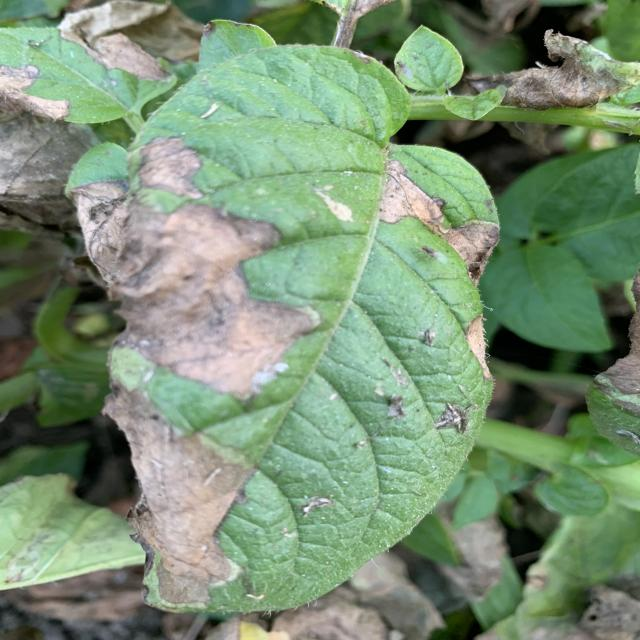lateblight: (68, 145, 320, 400), (103, 380, 255, 606), (378, 161, 498, 285), (472, 30, 640, 110), (58, 0, 203, 80), (593, 274, 640, 414), (137, 138, 203, 200), (0, 65, 70, 120), (467, 316, 493, 380), (313, 185, 353, 222)
